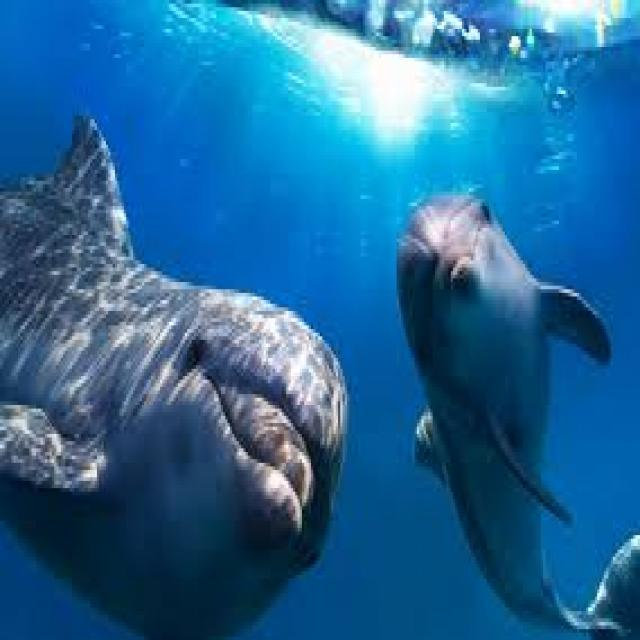dolphin: (0, 134, 352, 640), (383, 134, 606, 640)
